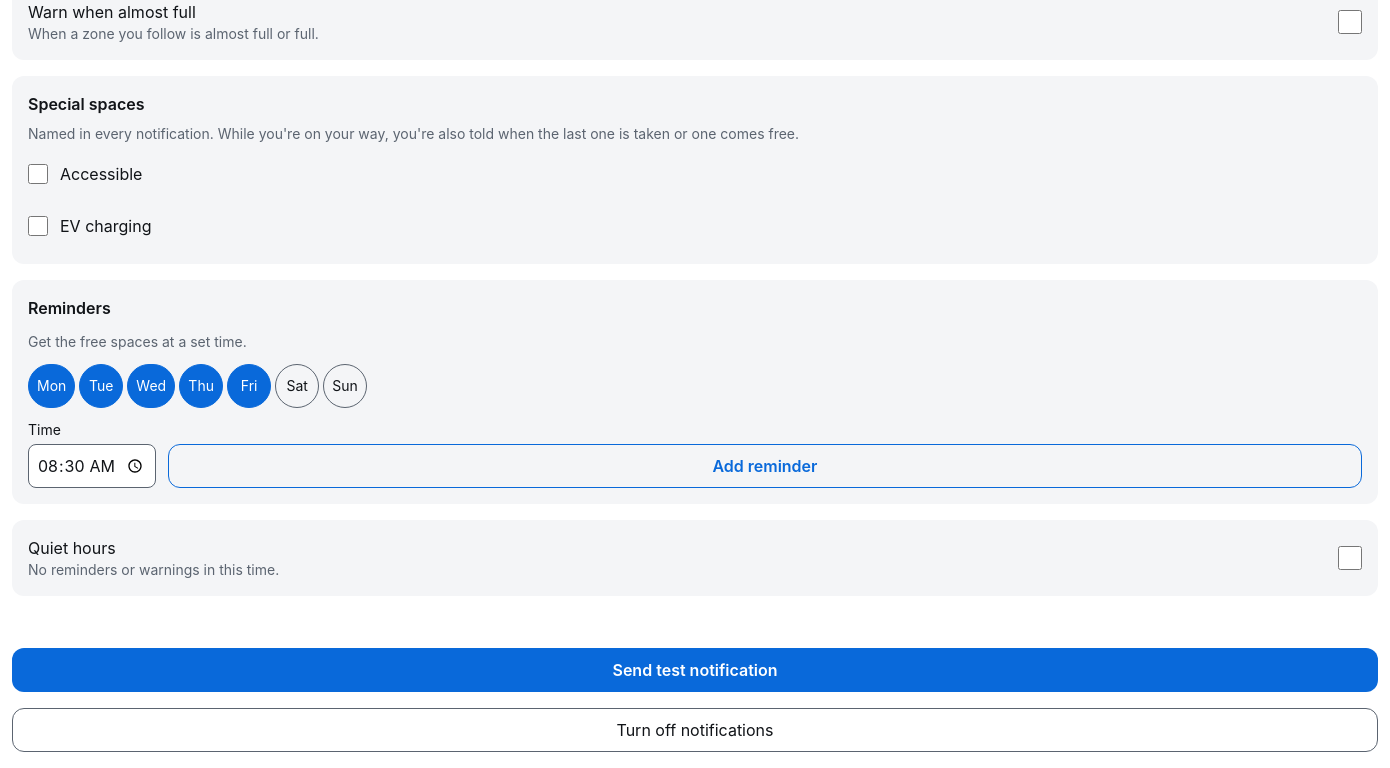
NotificationsScreen › when subscribed › turns notifications off
(page scrolled)
Click the button "Turn off notifications".
click(695, 730)  # box [12,708,1378,752]
(page scrolled)
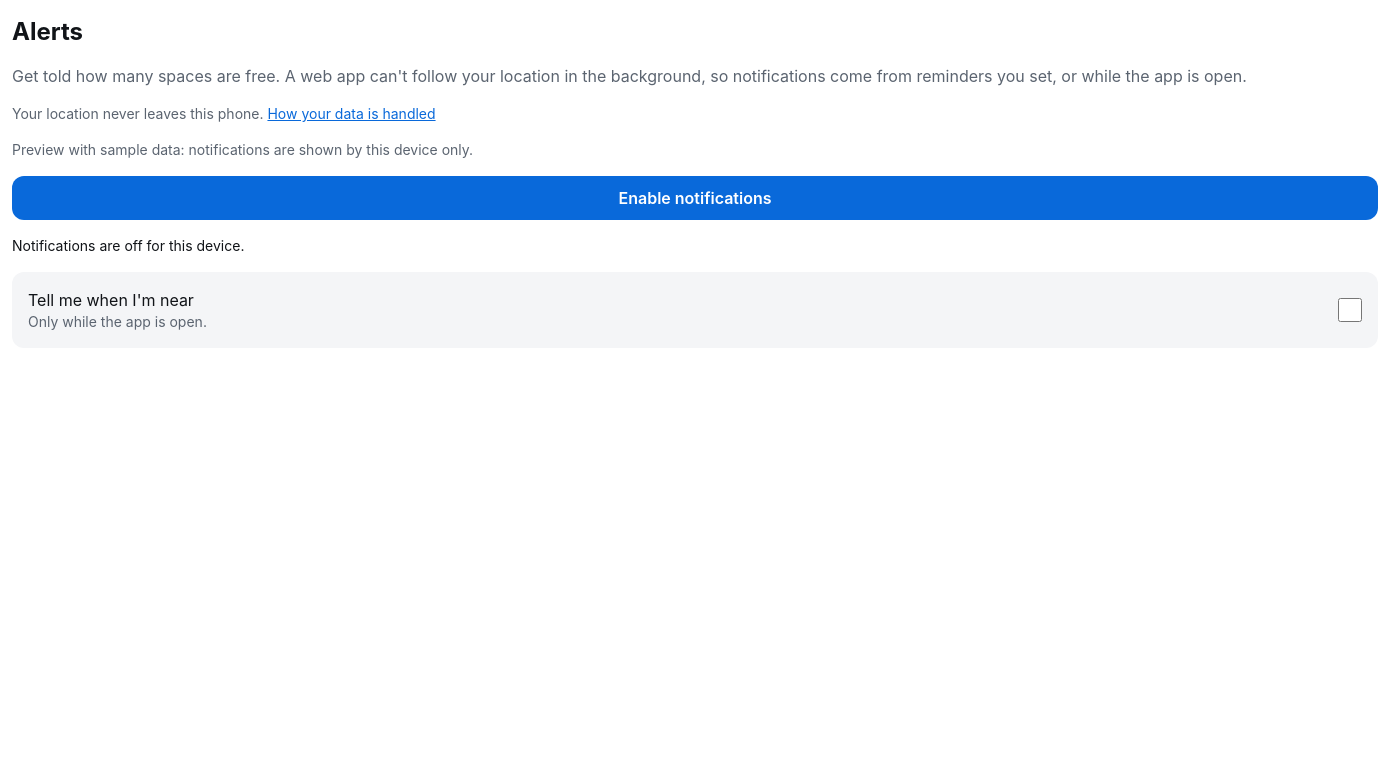
Expected: the button "Enable notifications" is shown, [12,176,1378,220]
